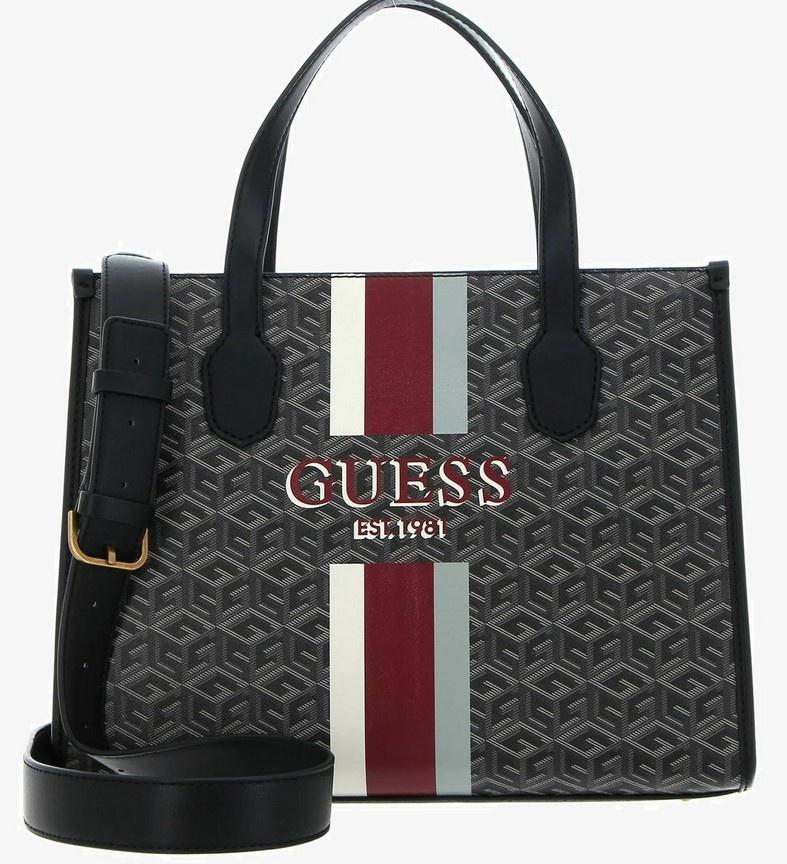GUESS: (285, 457, 511, 508)
